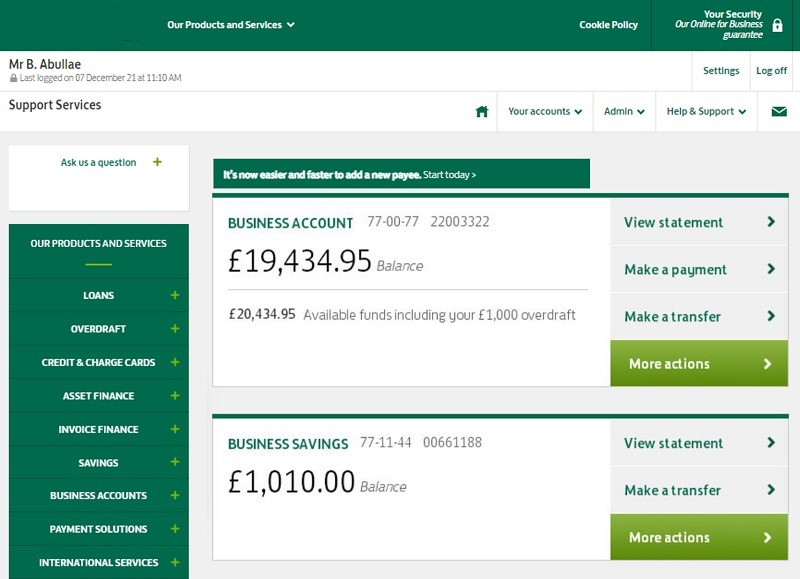block: (212, 193, 789, 388), (211, 415, 788, 561), (7, 224, 190, 579), (1, 1, 800, 51), (1, 50, 800, 91), (1, 92, 800, 131)
button: (8, 145, 189, 212), (213, 158, 591, 189), (610, 244, 788, 293), (611, 466, 789, 515), (611, 293, 788, 341), (612, 419, 788, 466), (610, 198, 788, 244), (611, 341, 788, 387), (610, 515, 789, 560), (694, 52, 750, 89), (752, 52, 793, 90)
icon: (757, 91, 800, 131), (759, 209, 785, 235), (759, 255, 785, 281), (759, 302, 785, 328), (755, 351, 781, 377), (757, 429, 783, 455), (758, 475, 784, 501), (753, 524, 779, 550), (466, 100, 494, 123), (768, 15, 788, 37), (166, 285, 185, 305), (166, 318, 185, 338), (165, 351, 184, 371), (166, 383, 185, 403), (166, 418, 185, 438), (167, 451, 186, 471), (166, 484, 185, 504), (166, 518, 185, 538), (166, 551, 185, 571), (633, 100, 651, 121), (572, 103, 588, 119), (736, 101, 750, 119), (285, 17, 300, 31), (151, 154, 164, 169), (7, 71, 19, 85), (471, 171, 479, 179)
